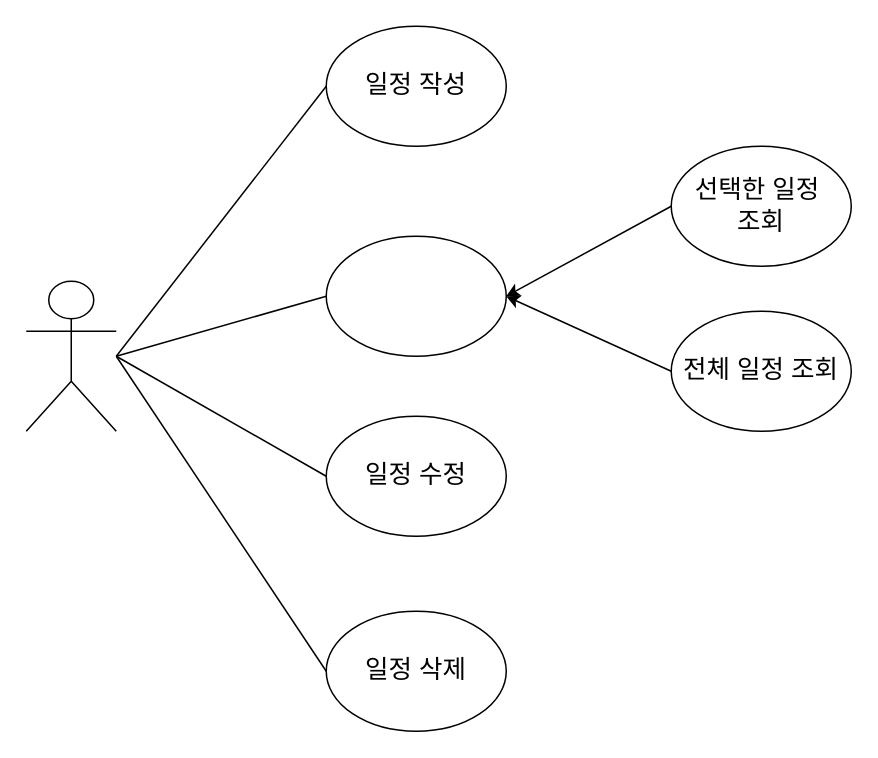
Some shapes in this 878 by 758 pixel diagram are drawn without their labels. Here are the shapes that lost their labels. From the top down, the centre of each, then its label:
At (x=415, y=295): "일정 조회".
At (x=70, y=355): "사용자".
